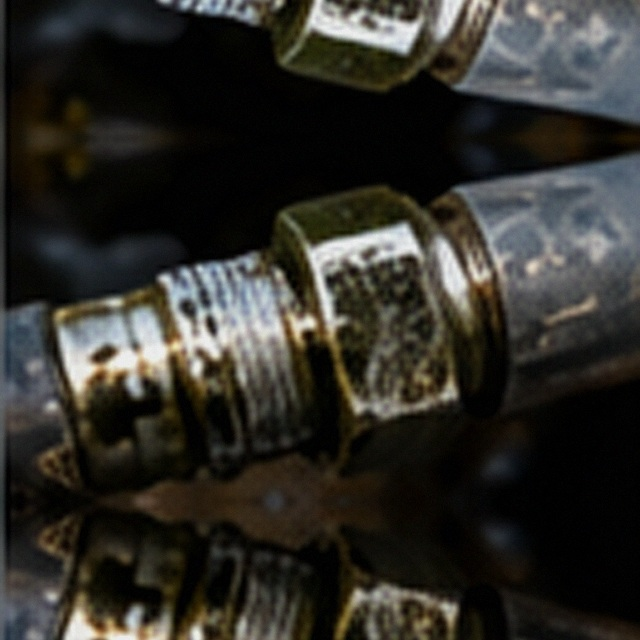hydraulic_oil_leak: (231, 239, 433, 442)
